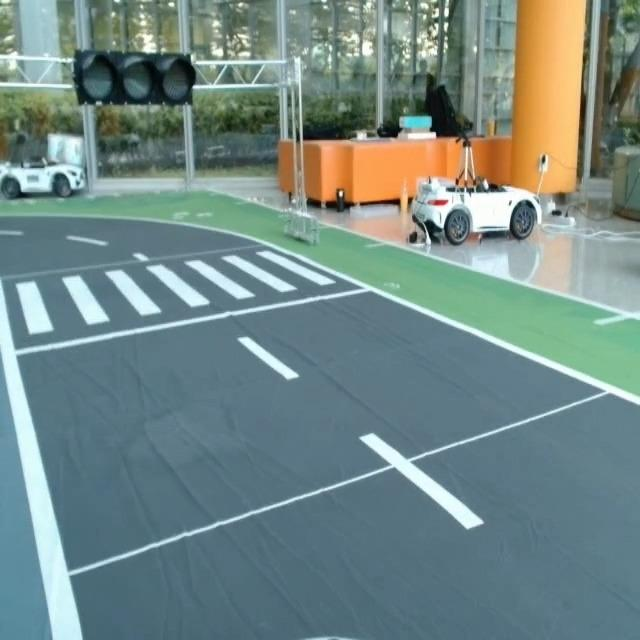traffic-light: (73, 44, 201, 110)
